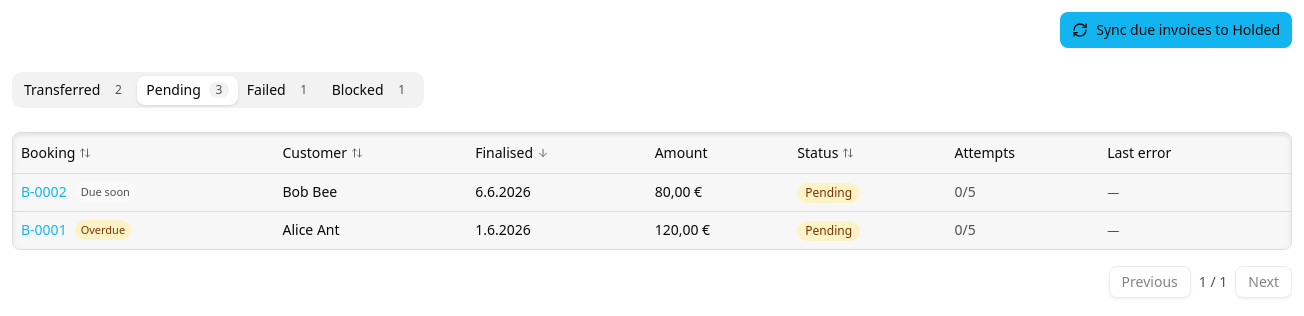
Test: Invoicing route › switching to the Transferred tab shows the Holded ref and hides pending rows
Click the tab with test id "invoicing-tab-transferred" at (76, 90), box [15,76,137,104]
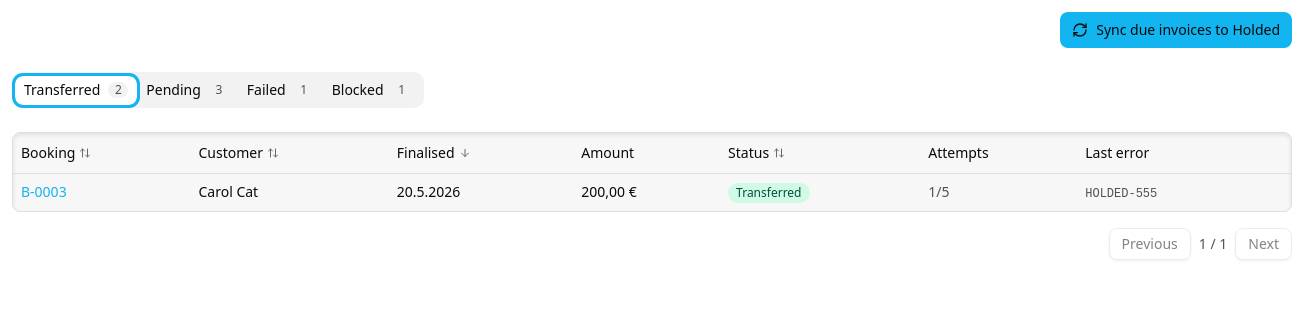
Result: the row with test id "invoicing-row-log-transferred-1" is shown at [13,173,1291,210]
Result: the text with test id "invoicing-holded-ref-log-transferred-1" reads "HOLDED-555" at [1085,187,1157,201]
Result: the row with test id "invoicing-row-log-pending-1" is gone
